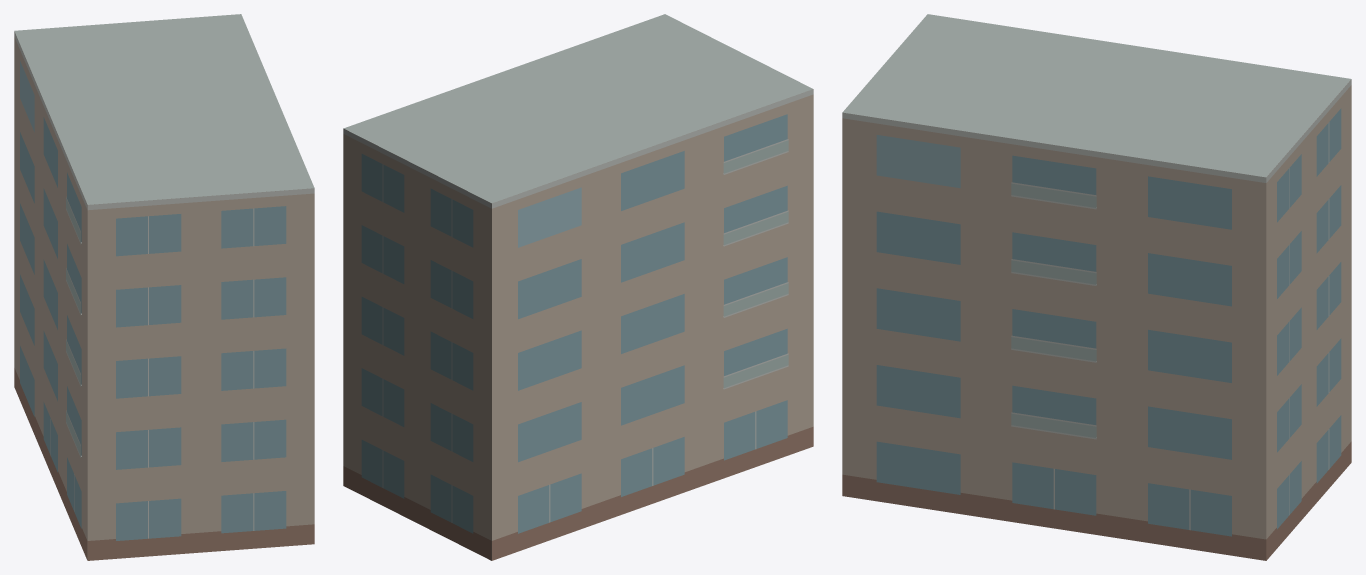
The model's file is survey-upis-32552358.glb.
3 renders of one model, left to right at view 1: azimuth 30°, elevation 25°; view 2: azimuth 150°, elevation 25°; view 3: azimuth 270°, elevation 25°, orthographic. The views are drawn at different scales.
Visible parts, largest first — view 1: survey-upis-32552358.tmp; view 2: survey-upis-32552358.tmp; view 3: survey-upis-32552358.tmp.
Part boxes in pixels (x1=…): survey-upis-32552358.tmp: x1=14, y1=14, x2=314, y2=560; survey-upis-32552358.tmp: x1=343, y1=14, x2=813, y2=560; survey-upis-32552358.tmp: x1=842, y1=14, x2=1351, y2=560.
Bounding box in the file's own units: 15 × 16.4 × 19.76.
